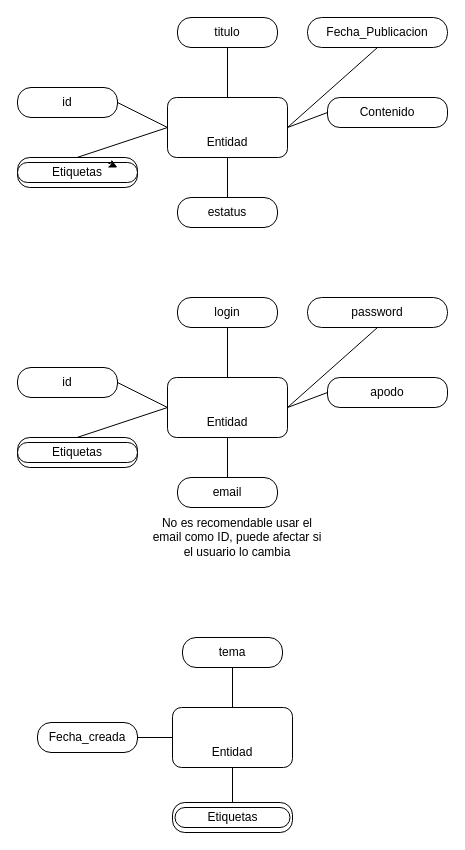
Image size: 465x850. Some labels were removed from this diagram. Each missing label, with the box of its shape:
CATEGORIA: (172, 706, 292, 768)
POSTS: (166, 96, 288, 158)
USUARIOS: (166, 376, 288, 438)
